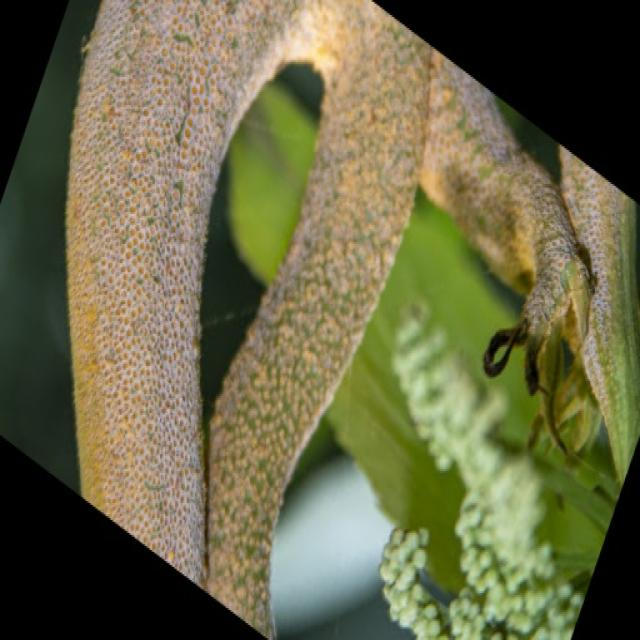Elderberry_rust: (62, 0, 638, 636)
